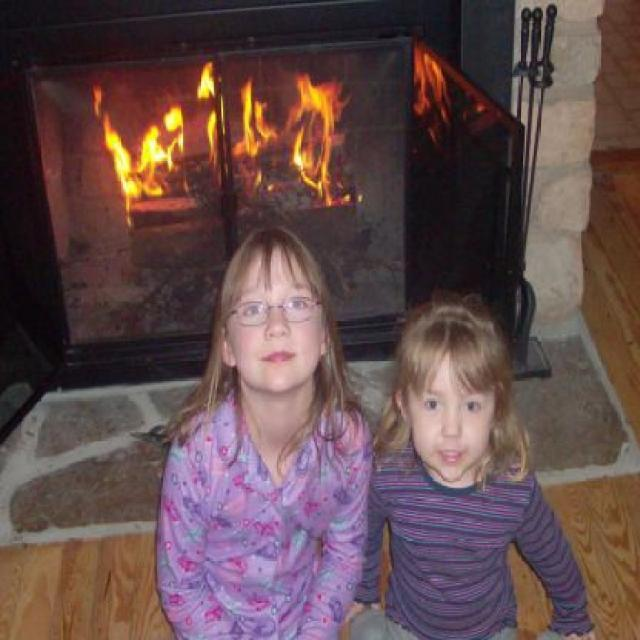Fire: (414, 48, 458, 135), (235, 78, 274, 157), (137, 105, 186, 167), (298, 114, 332, 190), (108, 123, 134, 203), (294, 73, 342, 116), (314, 184, 360, 210), (198, 59, 214, 104), (146, 184, 163, 198)
